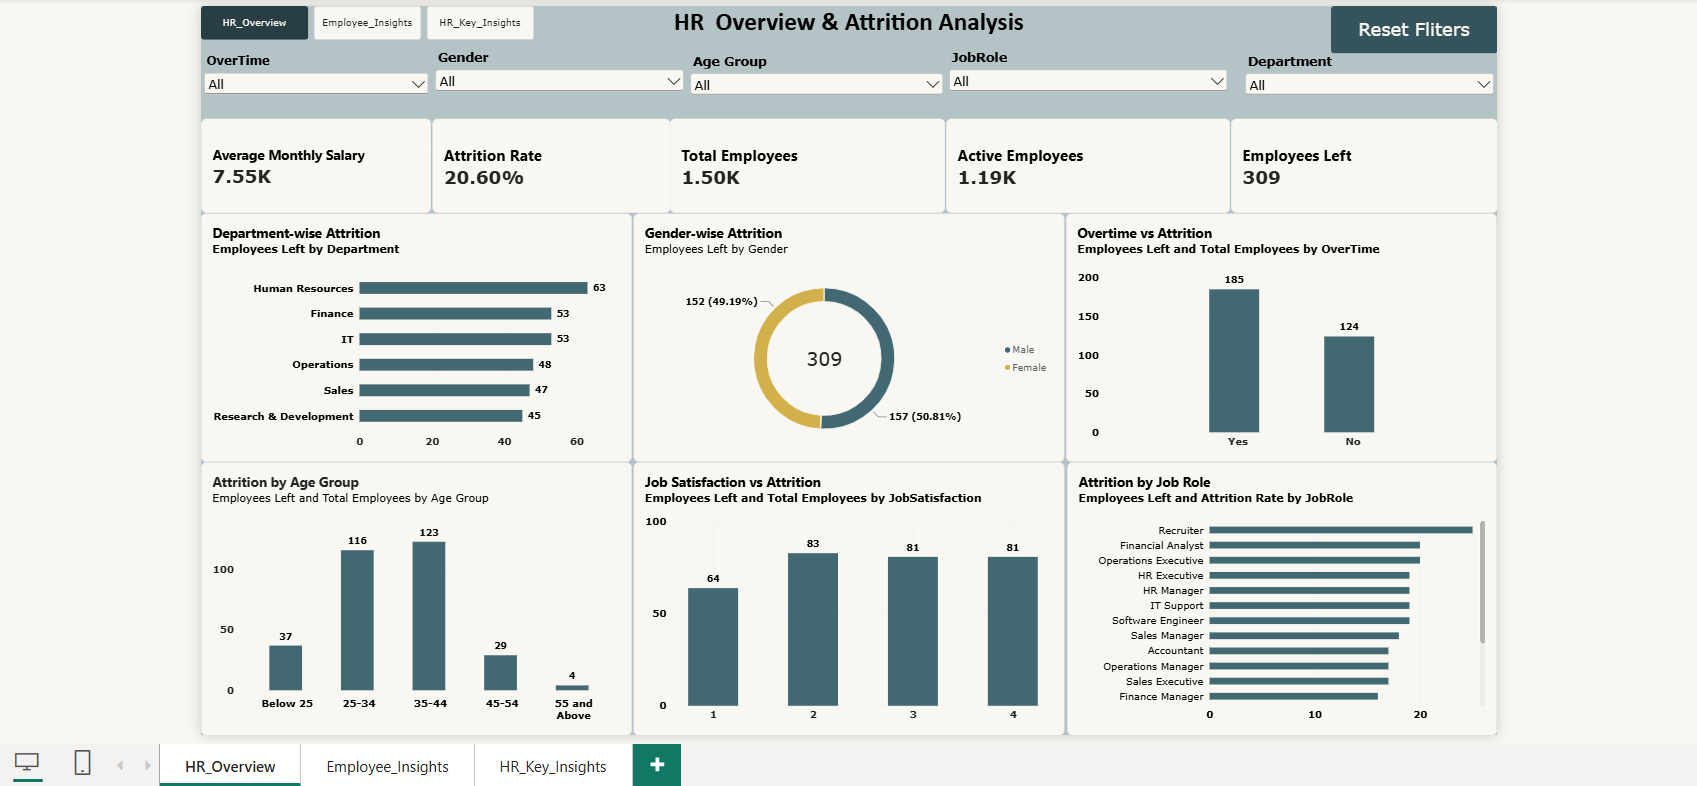

What the dashboard file says about the page in this screenshot:
{"tool":"powerbi","page":{"name":"HR_Overview","canvas":[1920,1080],"ordinal":0},"visuals":[{"type":"cardVisual","fields":{"Data":["hr_analytics hr_employees_clean.Average Monthly Salary"]},"box":[0,166.7,341.7,140],"z":0},{"type":"cardVisual","fields":{"Data":["hr_analytics hr_employees_clean.Total Employees"]},"box":[695,166.7,408.3,140],"z":1},{"type":"cardVisual","fields":{"Data":["hr_analytics hr_employees_clean.Active Employees"]},"box":[1103.3,166.7,421.7,140],"z":2},{"type":"cardVisual","fields":{"Data":["hr_analytics hr_employees_clean.Employees Left"]},"box":[1525,166.7,395,140],"z":3},{"type":"cardVisual","fields":{"Data":["hr_analytics hr_employees_clean.Attrition Rate"]},"box":[341.7,166.7,353.3,140],"z":4},{"type":"clusteredBarChart","title":"Department-wise Attrition","fields":{"Category":["hr_analytics hr_employees_clean.Department"],"Y":["hr_analytics hr_employees_clean.Employees Left"]},"box":[0,306.7,638.3,368.3],"z":5},{"type":"donutChart","title":"Gender-wise Attrition","fields":{"Category":["hr_analytics hr_employees_clean.Gender"],"Y":["hr_analytics hr_employees_clean.Employees Left"]},"box":[640,306.7,638.3,368.3],"z":6},{"type":"clusteredColumnChart","title":"Attrition by Age Group","fields":{"Category":["hr_analytics hr_employees_clean.Age Group"],"Y":["hr_analytics hr_employees_clean.Employees Left"]},"box":[0,675,638.3,405],"z":7},{"type":"clusteredColumnChart","title":"Job Satisfaction vs Attrition","fields":{"Category":["hr_analytics hr_employees_clean.JobSatisfaction"],"Y":["hr_analytics hr_employees_clean.Employees Left"]},"box":[640,675,638.3,405],"z":8},{"type":"clusteredColumnChart","title":"Overtime vs Attrition","fields":{"Category":["hr_analytics hr_employees_clean.OverTime"],"Y":["hr_analytics hr_employees_clean.Employees Left"]},"box":[1281.7,306.7,638.3,368.3],"z":9},{"type":"slicer","fields":{"Values":["hr_analytics hr_employees_clean.Department"]},"box":[1542,70,378,96],"z":10},{"type":"slicer","fields":{"Values":["hr_analytics hr_employees_clean.Gender"]},"box":[342,64,378,102],"z":11},{"type":"slicer","fields":{"Values":["hr_analytics hr_employees_clean.JobRole"]},"box":[1104,64,422,104],"z":12},{"type":"textbox","box":[0,0,1920,63.3],"z":13},{"type":"slicer","fields":{"Values":["hr_analytics hr_employees_clean.OverTime"]},"box":[0,70,342,96],"z":14},{"type":"clusteredBarChart","title":"Attrition by Job Role","fields":{"Category":["hr_analytics hr_employees_clean.JobRole"],"Y":["hr_analytics hr_employees_clean.Employees Left"]},"box":[1283.3,675,636.7,405],"z":15},{"type":"slicer","fields":{"Values":["hr_analytics hr_employees_clean.Age Group"]},"box":[720,70,384,96],"z":16},{"type":"actionButton","box":[1674.1,0,246.3,70.4],"z":17},{"type":"pageNavigator","box":[0,0,494.4,50],"z":18}]}

Visuals, with their boxes on the page's 1920x1080 design canvas (x1, y1, x2, y2). These are canvas units, not pixel positions in the 1697x786 screenshot, which may show the page scaled, cropped or inside an application window:
cardVisual - hr_analytics hr_employees_clean.Average Monthly Salary: bbox(0, 167, 342, 307)
cardVisual - hr_analytics hr_employees_clean.Total Employees: bbox(695, 167, 1103, 307)
cardVisual - hr_analytics hr_employees_clean.Active Employees: bbox(1103, 167, 1525, 307)
cardVisual - hr_analytics hr_employees_clean.Employees Left: bbox(1525, 167, 1920, 307)
cardVisual - hr_analytics hr_employees_clean.Attrition Rate: bbox(342, 167, 695, 307)
"Department-wise Attrition" clusteredBarChart: bbox(0, 307, 638, 675)
"Gender-wise Attrition" donutChart: bbox(640, 307, 1278, 675)
"Attrition by Age Group" clusteredColumnChart: bbox(0, 675, 638, 1080)
"Job Satisfaction vs Attrition" clusteredColumnChart: bbox(640, 675, 1278, 1080)
"Overtime vs Attrition" clusteredColumnChart: bbox(1282, 307, 1920, 675)
slicer - hr_analytics hr_employees_clean.Department: bbox(1542, 70, 1920, 166)
slicer - hr_analytics hr_employees_clean.Gender: bbox(342, 64, 720, 166)
slicer - hr_analytics hr_employees_clean.JobRole: bbox(1104, 64, 1526, 168)
textbox: bbox(0, 0, 1920, 63)
slicer - hr_analytics hr_employees_clean.OverTime: bbox(0, 70, 342, 166)
"Attrition by Job Role" clusteredBarChart: bbox(1283, 675, 1920, 1080)
slicer - hr_analytics hr_employees_clean.Age Group: bbox(720, 70, 1104, 166)
actionButton: bbox(1674, 0, 1920, 70)
pageNavigator: bbox(0, 0, 494, 50)
